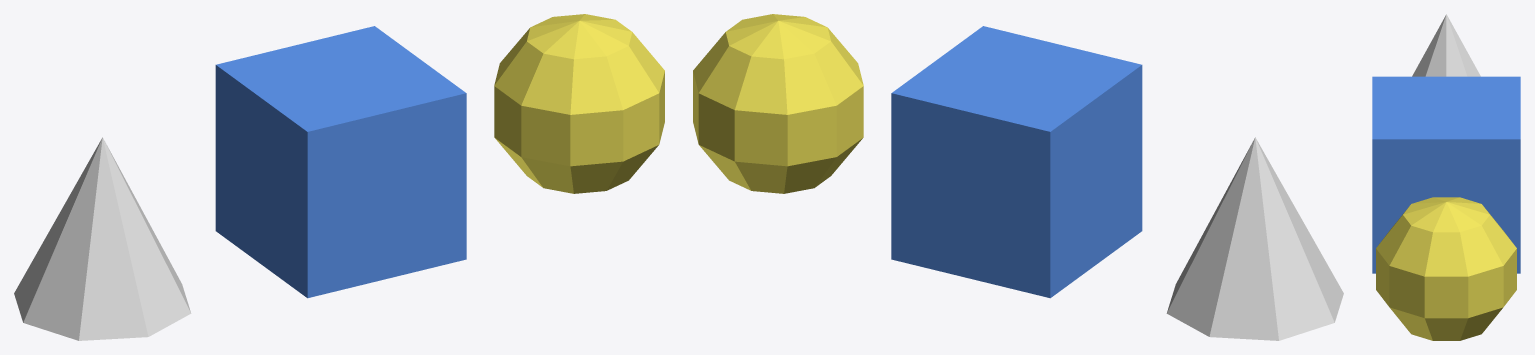
Rendered from plastic_toy.out_toys.glb.
3 renders of one model, left to right at view 1: azimuth 30°, elevation 25°; view 2: azimuth 150°, elevation 25°; view 3: azimuth 270°, elevation 25°, orthographic. The views are drawn at different scales.
Parts seen in each view (by area): view 1: Block, Ball, Hat; view 2: Block, Ball, Hat; view 3: Block, Ball, Hat.
Boxes of the visible parts, x1,y1,x2,y2 form: Block: (215,26,466,298); Ball: (494,14,664,193); Hat: (14,137,191,340); Block: (891,26,1142,298); Ball: (693,14,863,193); Hat: (1166,137,1343,340); Block: (1372,76,1520,273); Ball: (1376,197,1516,340); Hat: (1412,14,1480,76).
Size of the model in its own units: 7.9 by 2 by 2.
